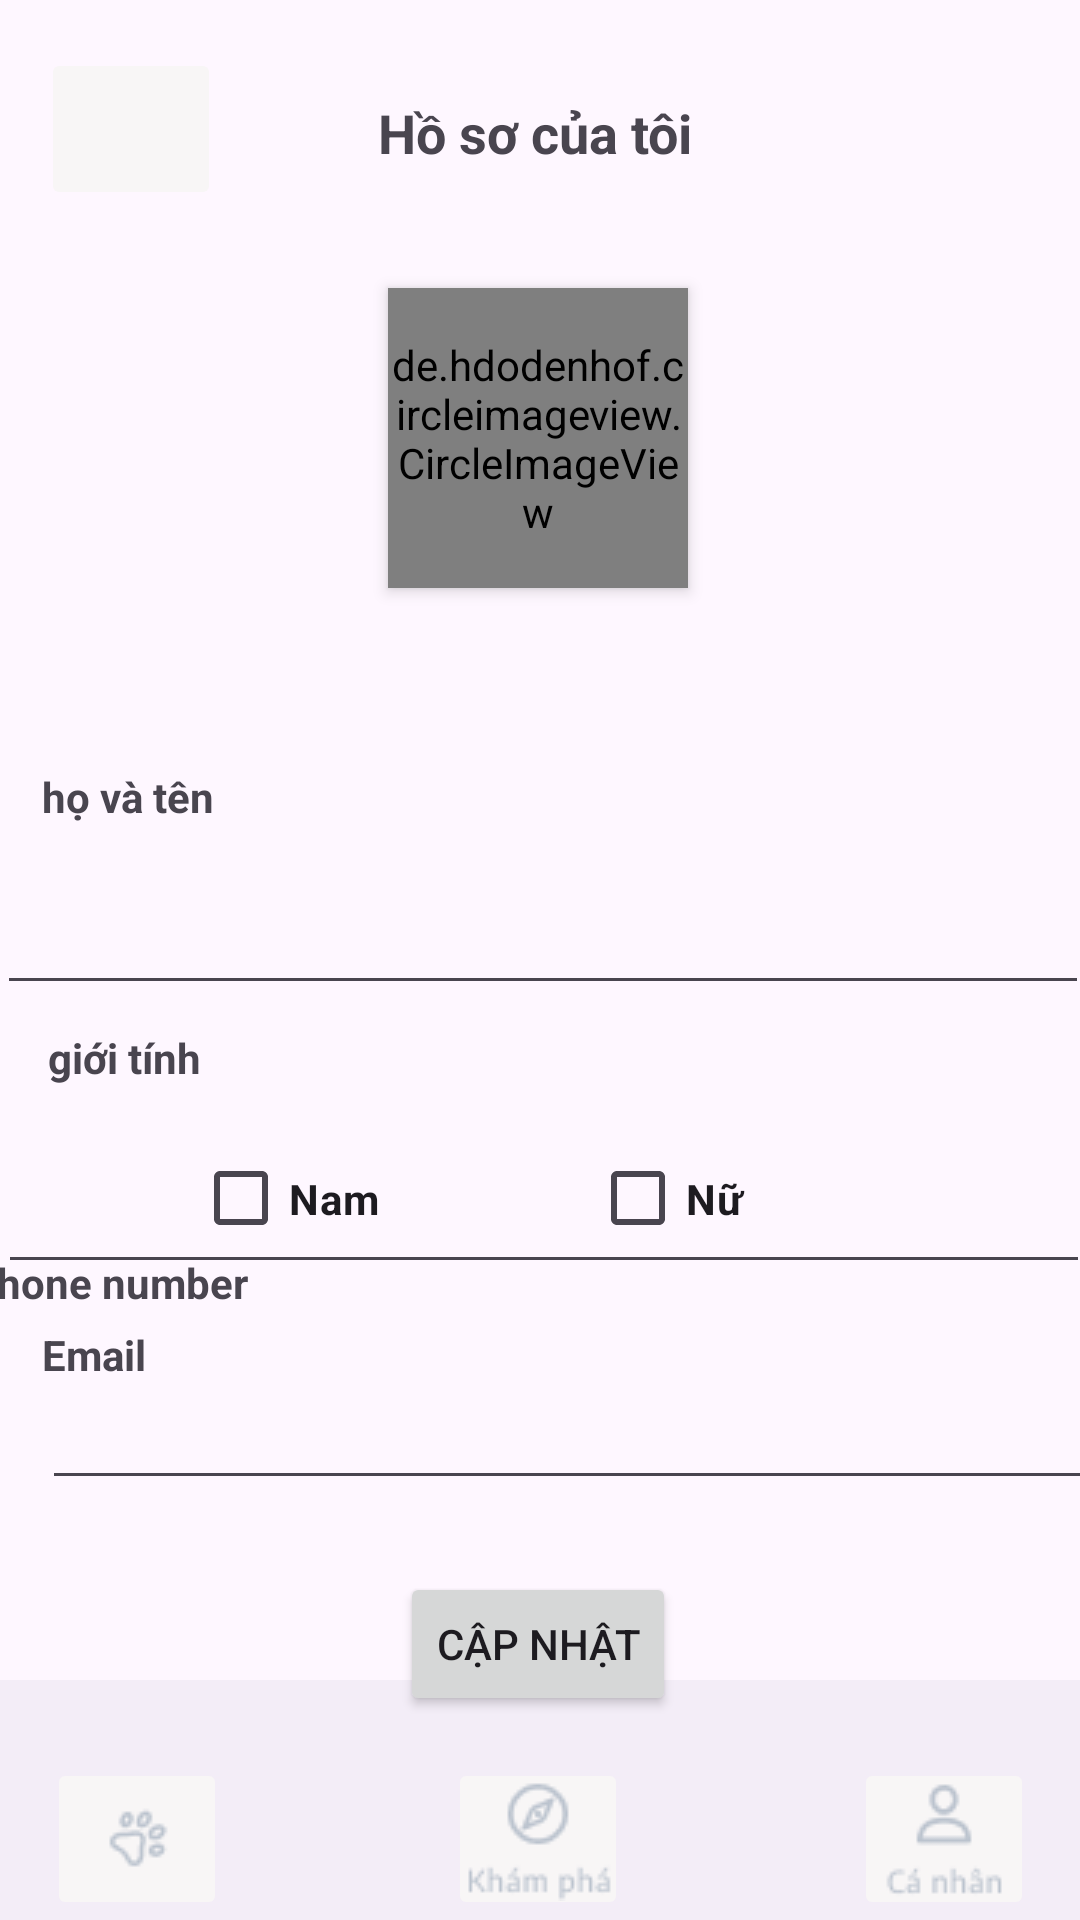

Screen size 1080px×1920px. Icon name, then its box in pixels as [x1,y1,x2,y2]:
pet: [59,1776,215,1902]
